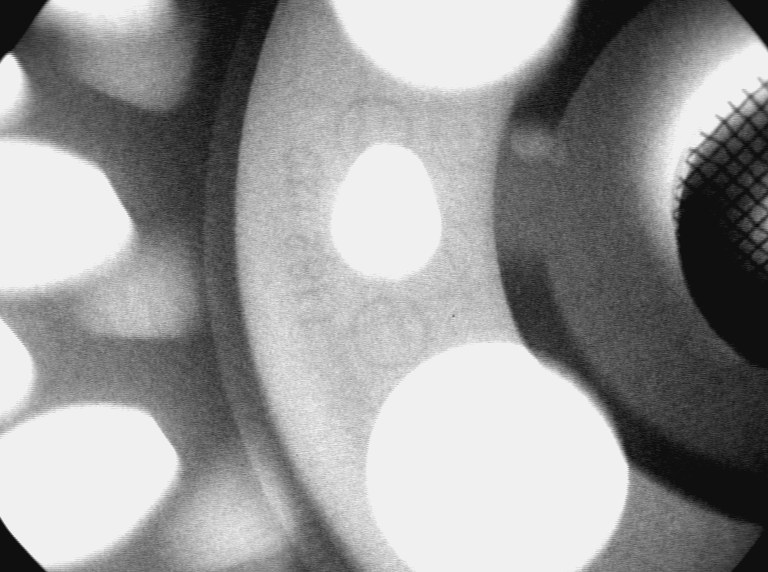defect: (505, 121, 571, 170)
